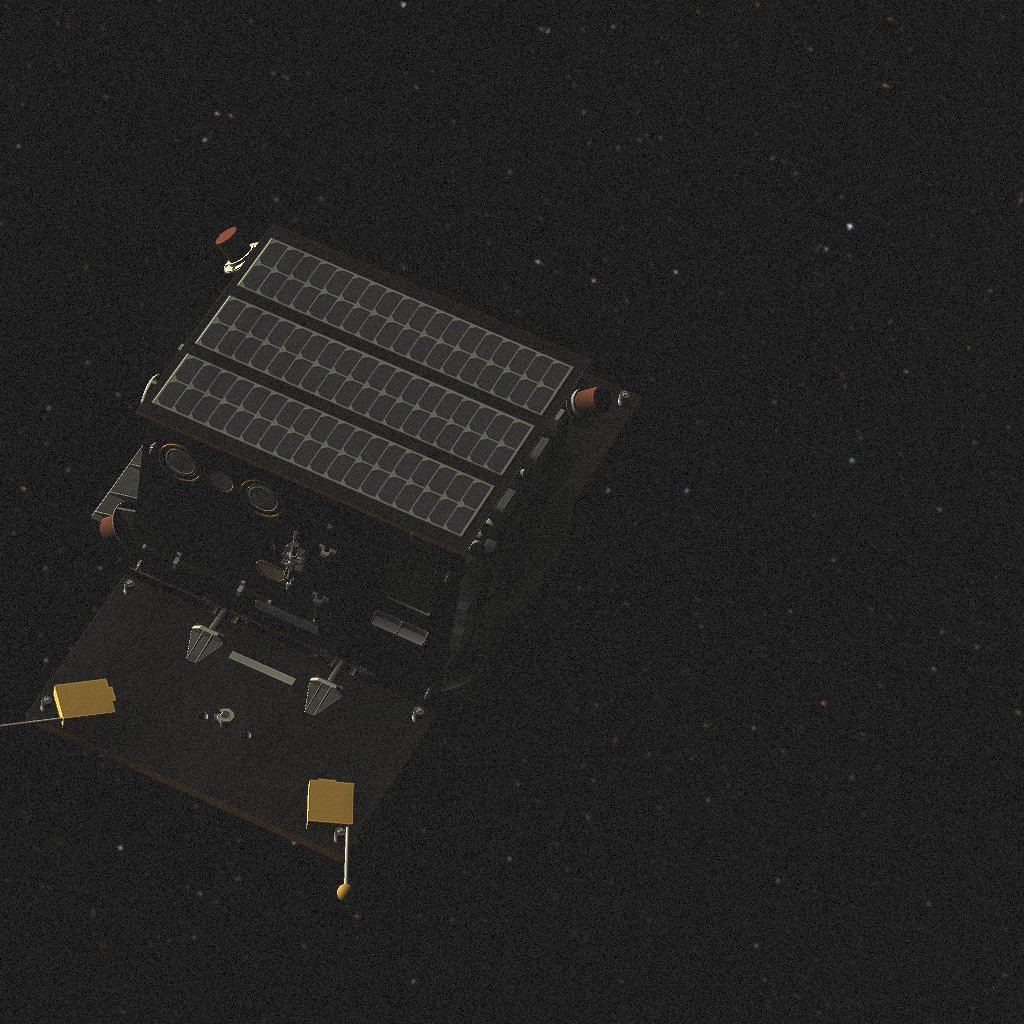proba_2: (0, 224, 642, 901)
